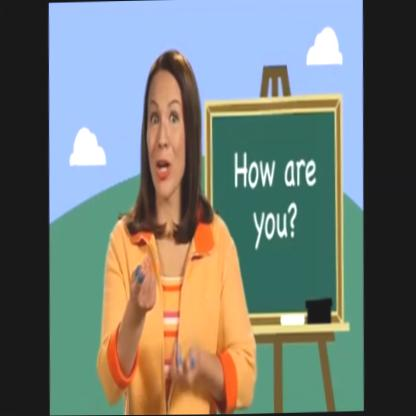HowAreYou: (112, 230, 209, 404)
